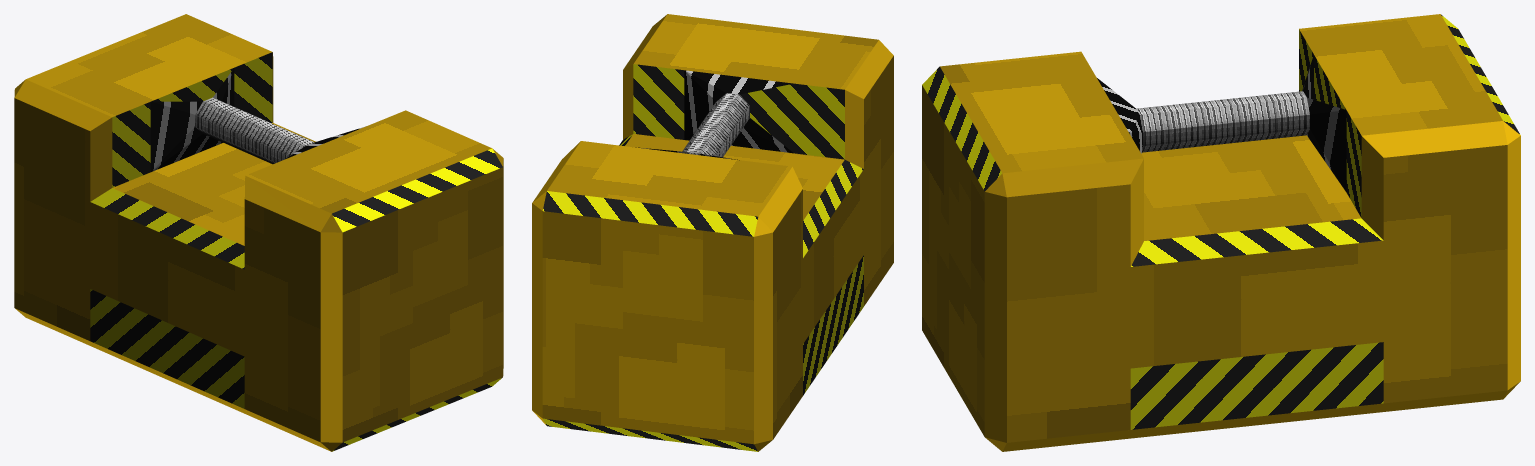
File: primary_01.glb
3 renders of one model, left to right at view 1: azimuth 30°, elevation 25°; view 2: azimuth 150°, elevation 25°; view 3: azimuth 270°, elevation 25°, orthographic. The views are drawn at different scales.
Visible parts, largest first — view 1: Object; view 2: Object; view 3: Object.
Boxes of the visible parts, x1,y1,x2,y2 form: Object: (14, 14, 503, 451); Object: (532, 14, 893, 451); Object: (922, 14, 1520, 451).
Size of the model in its own units: 0.4476 by 0.3337 by 0.6499.
Materials: 32 (32 with a texture image).
